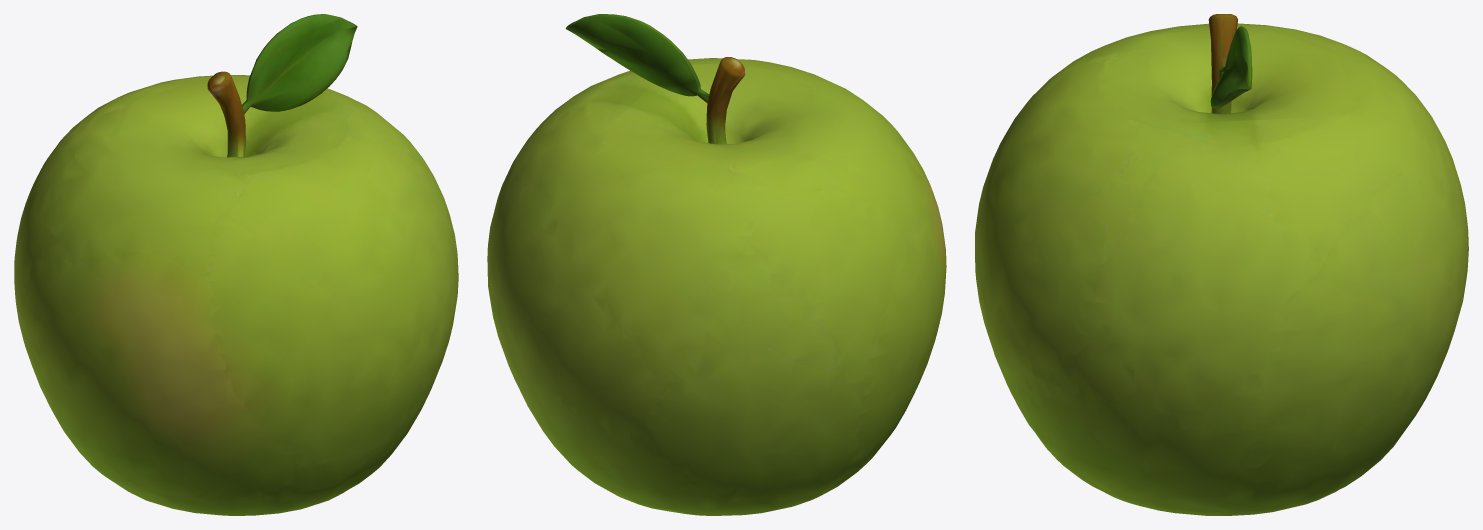
The model's file is apple-green.glb.
3 views of the same model, side by side, from view 1: azimuth 30°, elevation 25°; view 2: azimuth 150°, elevation 25°; view 3: azimuth 270°, elevation 25° (orthographic). The views are drawn at different scales.
Visible parts, largest first — view 1: material; view 2: material; view 3: material.
Boxes of the visible parts, x1,y1,x2,y2 form: material: (14,14,458,515); material: (487,14,946,515); material: (975,14,1468,515).
Size of the model in its own units: 1.02 by 1.06 by 1.01.
Materials: 1 (1 with a texture image).
